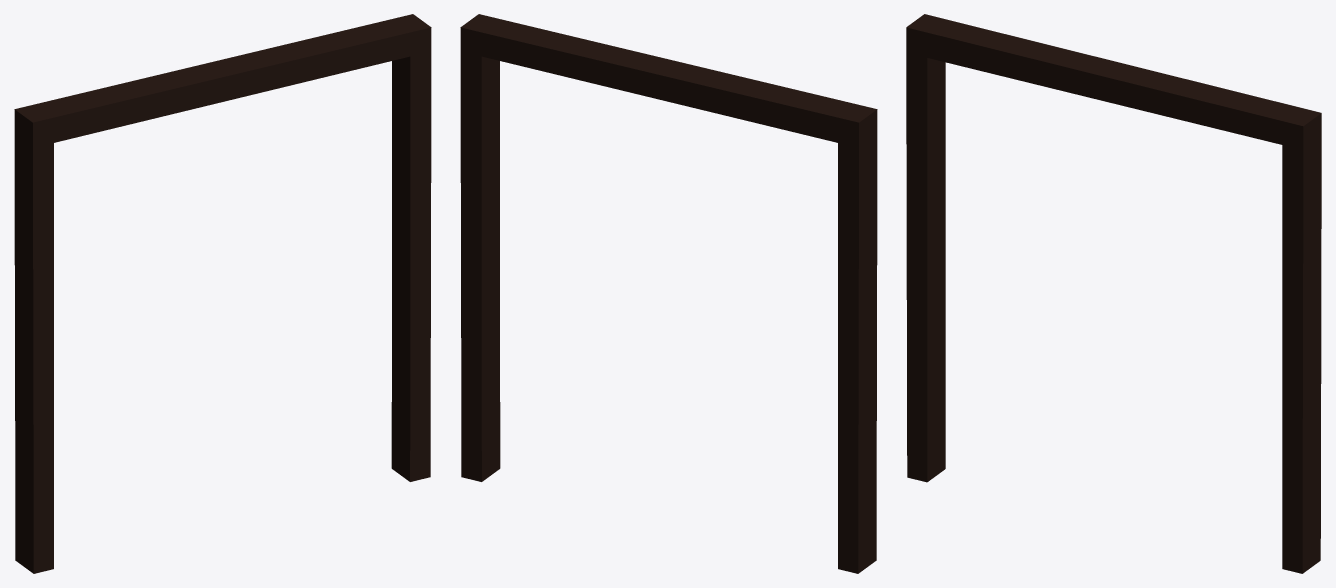
Rendered from Door Marco Wide.glb.
3 renders of one model, left to right at view 1: azimuth 30°, elevation 25°; view 2: azimuth 150°, elevation 25°; view 3: azimuth 330°, elevation 25°, orthographic.
Parts seen in each view (by area): view 1: Door Marco Wide; view 2: Door Marco Wide; view 3: Door Marco Wide.
Boxes of the visible parts, x1=… form: Door Marco Wide: x1=14, y1=14, x2=431, y2=573; Door Marco Wide: x1=460, y1=14, x2=877, y2=573; Door Marco Wide: x1=906, y1=14, x2=1321, y2=573.
Bounding box in the file's own units: 2.24 × 2.43 × 0.1789.
Materials: 1 (1 with a texture image).
